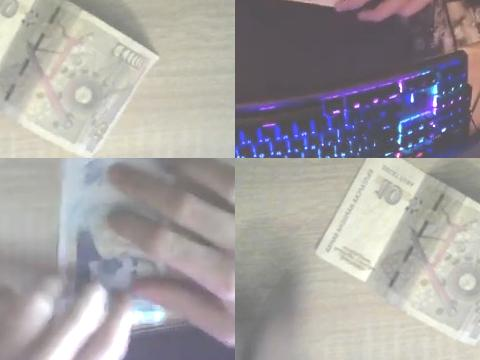10leva: (314, 158, 480, 344)
20leva: (56, 158, 151, 295)
